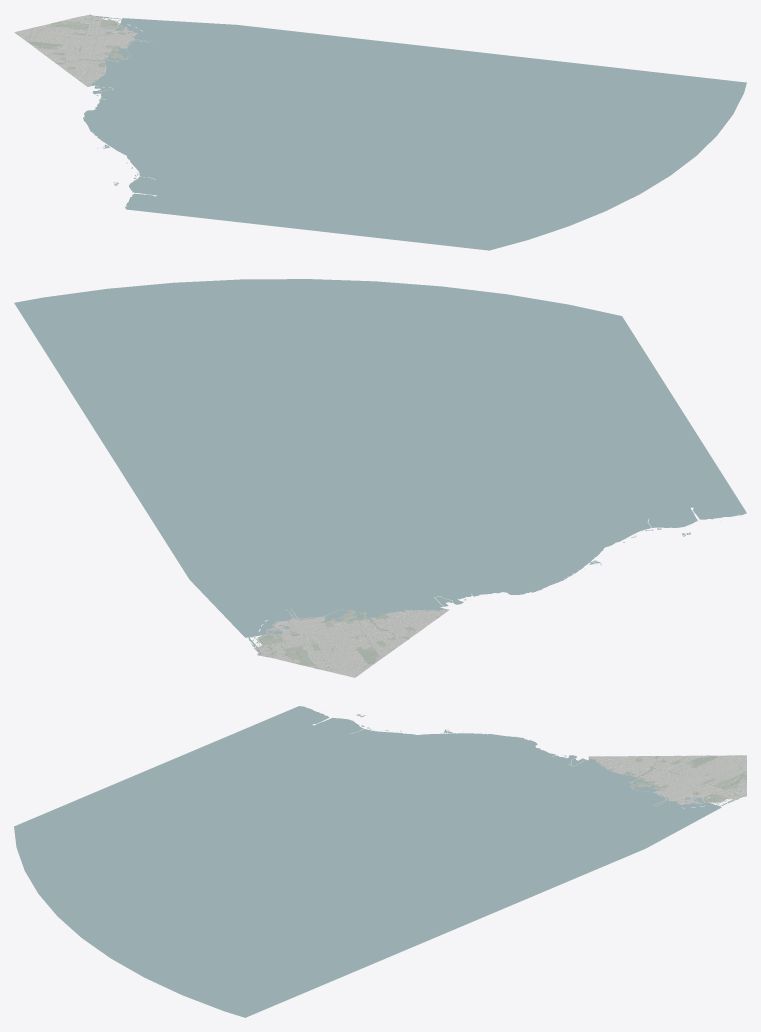
The model's file is lakeview-context.glb.
3 views of the same model, one above another, from view 1: azimuth 30°, elevation 25°; view 2: azimuth 150°, elevation 25°; view 3: azimuth 270°, elevation 25° (orthographic). The views are drawn at different scales.
Visible parts, largest first — view 1: LakeOntario-0, terrain, Shoreline, RoadPaved, WoodedArea, Park; view 2: LakeOntario-0, terrain, Shoreline, RoadPaved, WoodedArea, Park; view 3: LakeOntario-0, terrain, Shoreline, RoadPaved, WoodedArea, Park.
Part boxes in pixels (bbox=[...]): LakeOntario-0: bbox=[83, 20, 746, 250]; terrain: bbox=[14, 15, 153, 86]; Shoreline: bbox=[84, 18, 214, 85]; RoadPaved: bbox=[15, 16, 118, 86]; WoodedArea: bbox=[16, 14, 135, 80]; Park: bbox=[16, 16, 127, 85]; LakeOntario-0: bbox=[14, 279, 746, 614]; terrain: bbox=[255, 608, 448, 677]; Shoreline: bbox=[224, 570, 443, 657]; RoadPaved: bbox=[253, 610, 448, 677]; WoodedArea: bbox=[250, 609, 430, 676]; Park: bbox=[256, 609, 445, 675]; LakeOntario-0: bbox=[14, 706, 691, 1017]; terrain: bbox=[588, 755, 746, 807]; Shoreline: bbox=[588, 758, 740, 823]; RoadPaved: bbox=[589, 755, 746, 799]; WoodedArea: bbox=[598, 755, 746, 805]; Park: bbox=[590, 755, 746, 801].
Bounding box in the file's own units: 20527 × 36.86 × 20390.
